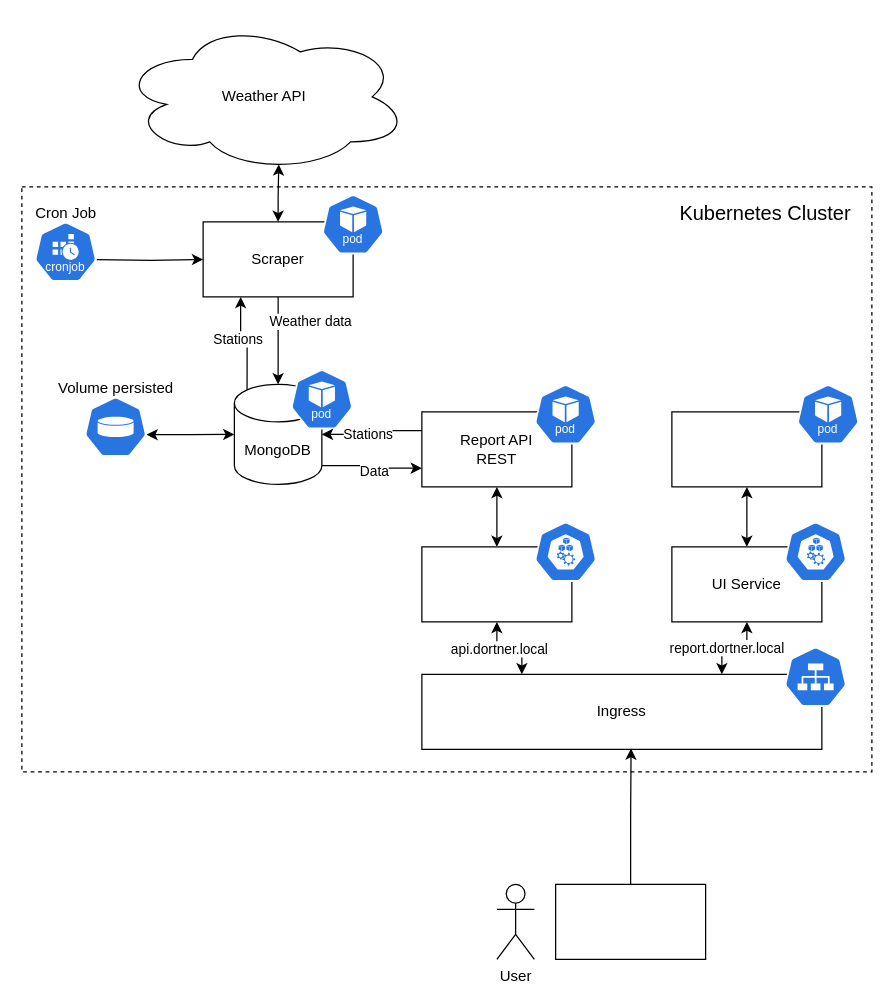
The diagram is 894 pixels wide and 1008 high, and some of its shapes have lost their labels. The shapes that lost their labels are listed below. From the top down, each one's box as (x1, y1, x2, y2) in pixels, then its label:
(671, 411, 822, 487): UI Nginx Server
(421, 546, 572, 622): API Service
(554, 883, 706, 959): Webbrowser
